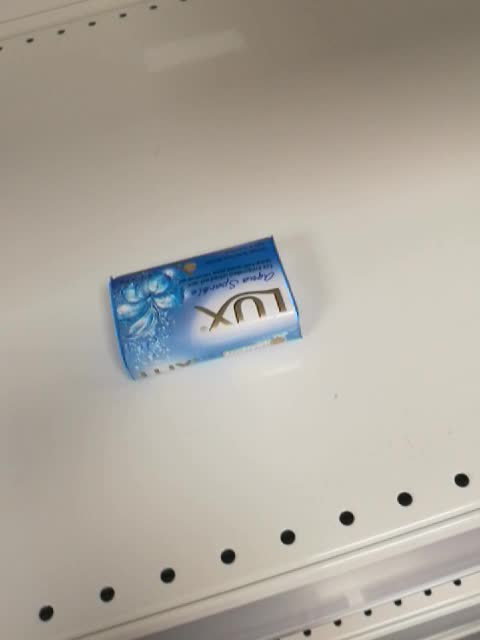soap: (107, 234, 305, 381)
